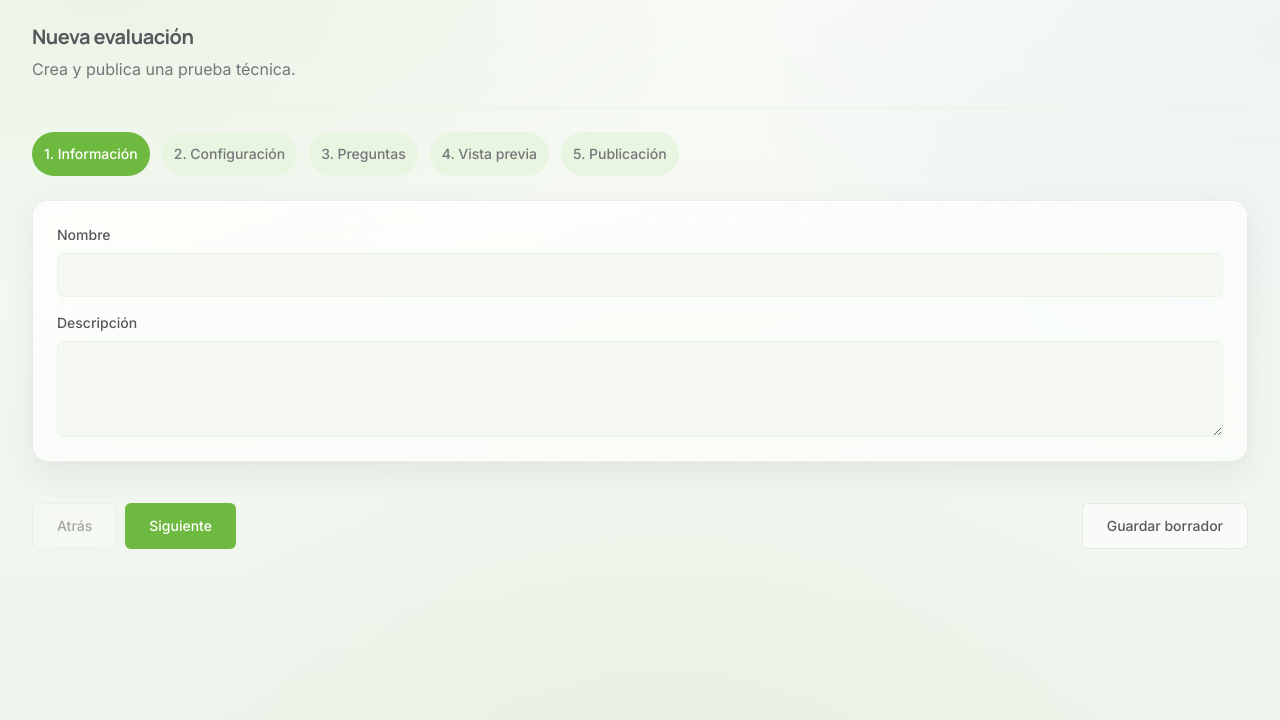
it: PruebasEvaluationEditor UI › keeps form values when save fails
In the field labelled "Nombre": [640, 275] box [57, 253, 1223, 297], type "Conservar título"
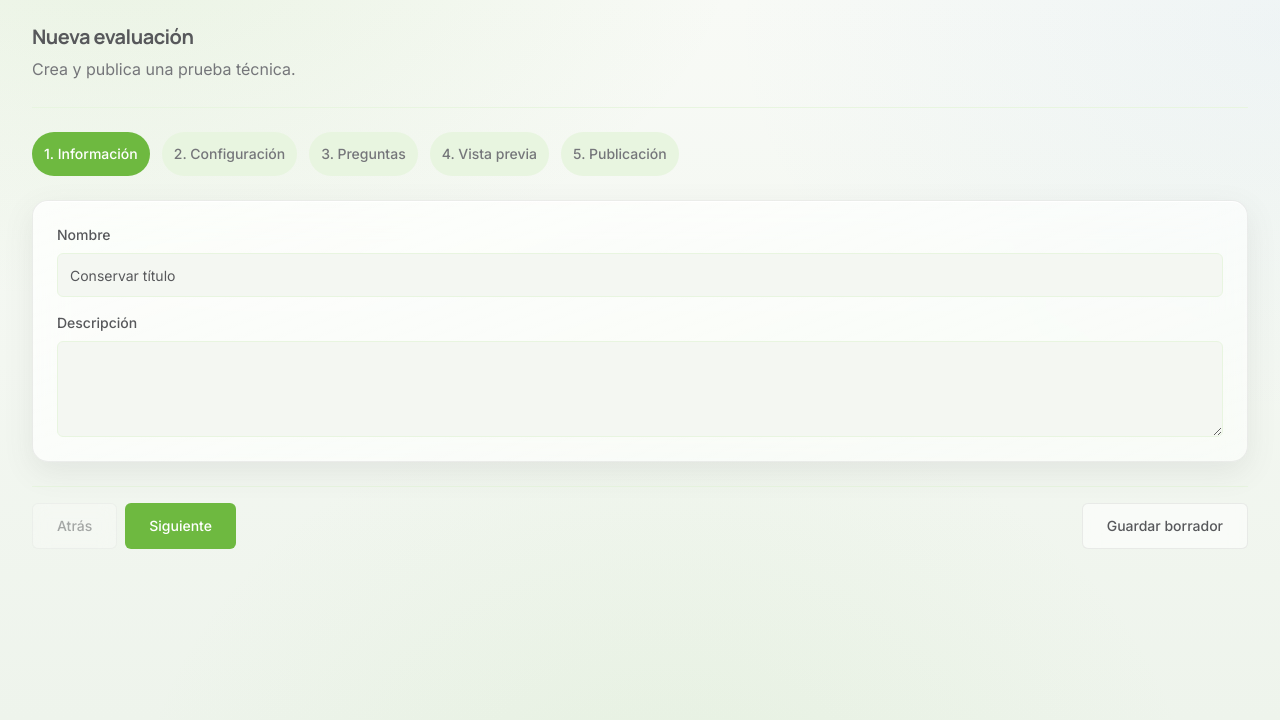
In the text box labelled "Descripción": [640, 389] box [57, 341, 1223, 437], type "Conservar descripción"
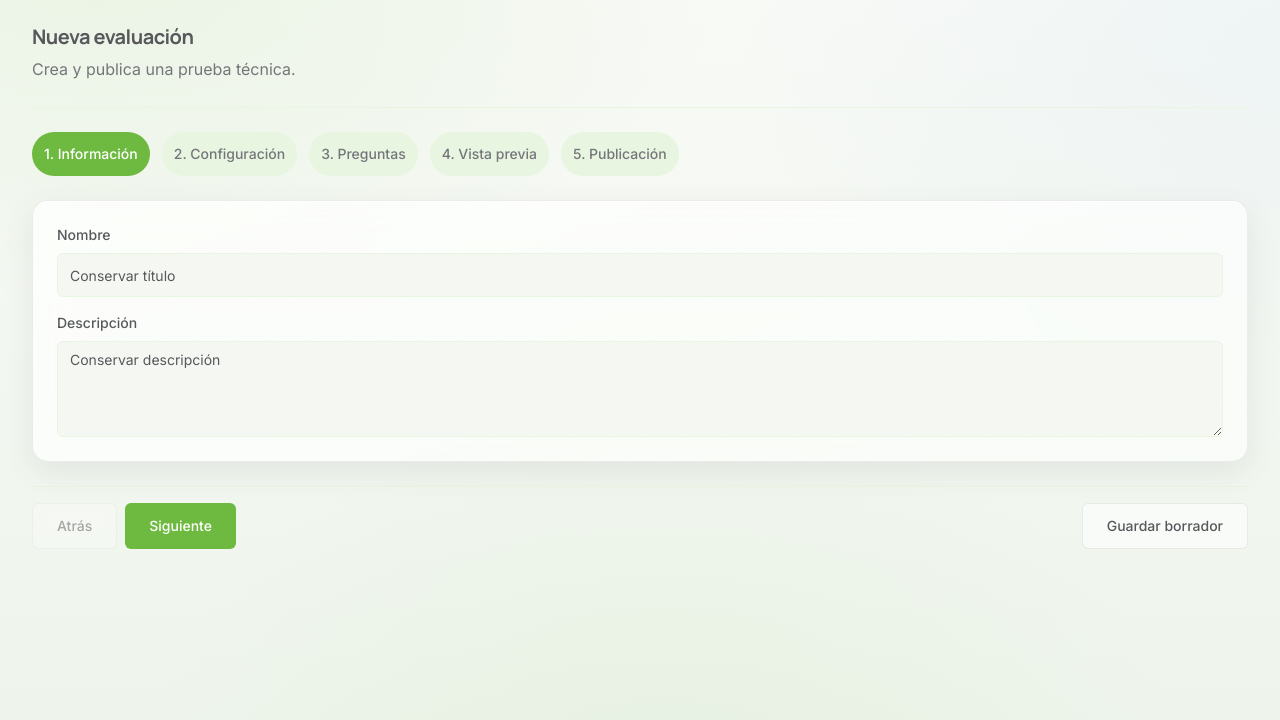
Click the button "Guardar borrador": [1165, 526] box [1082, 503, 1248, 549]
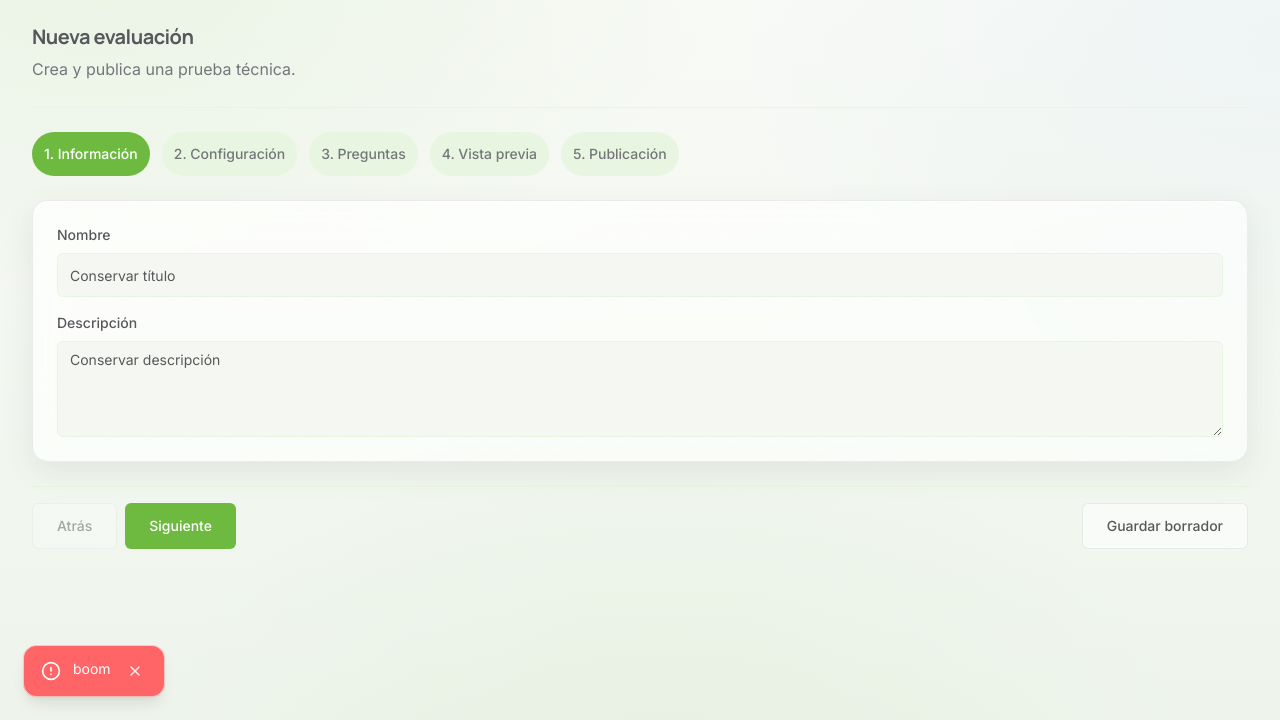
Now the text "boom" is shown, box [73, 659, 111, 678]
